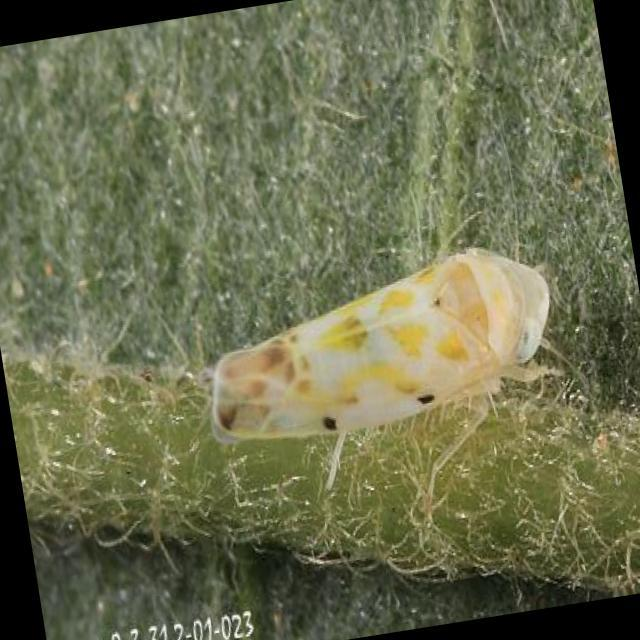green leaf hopper: (211, 248, 549, 488)
